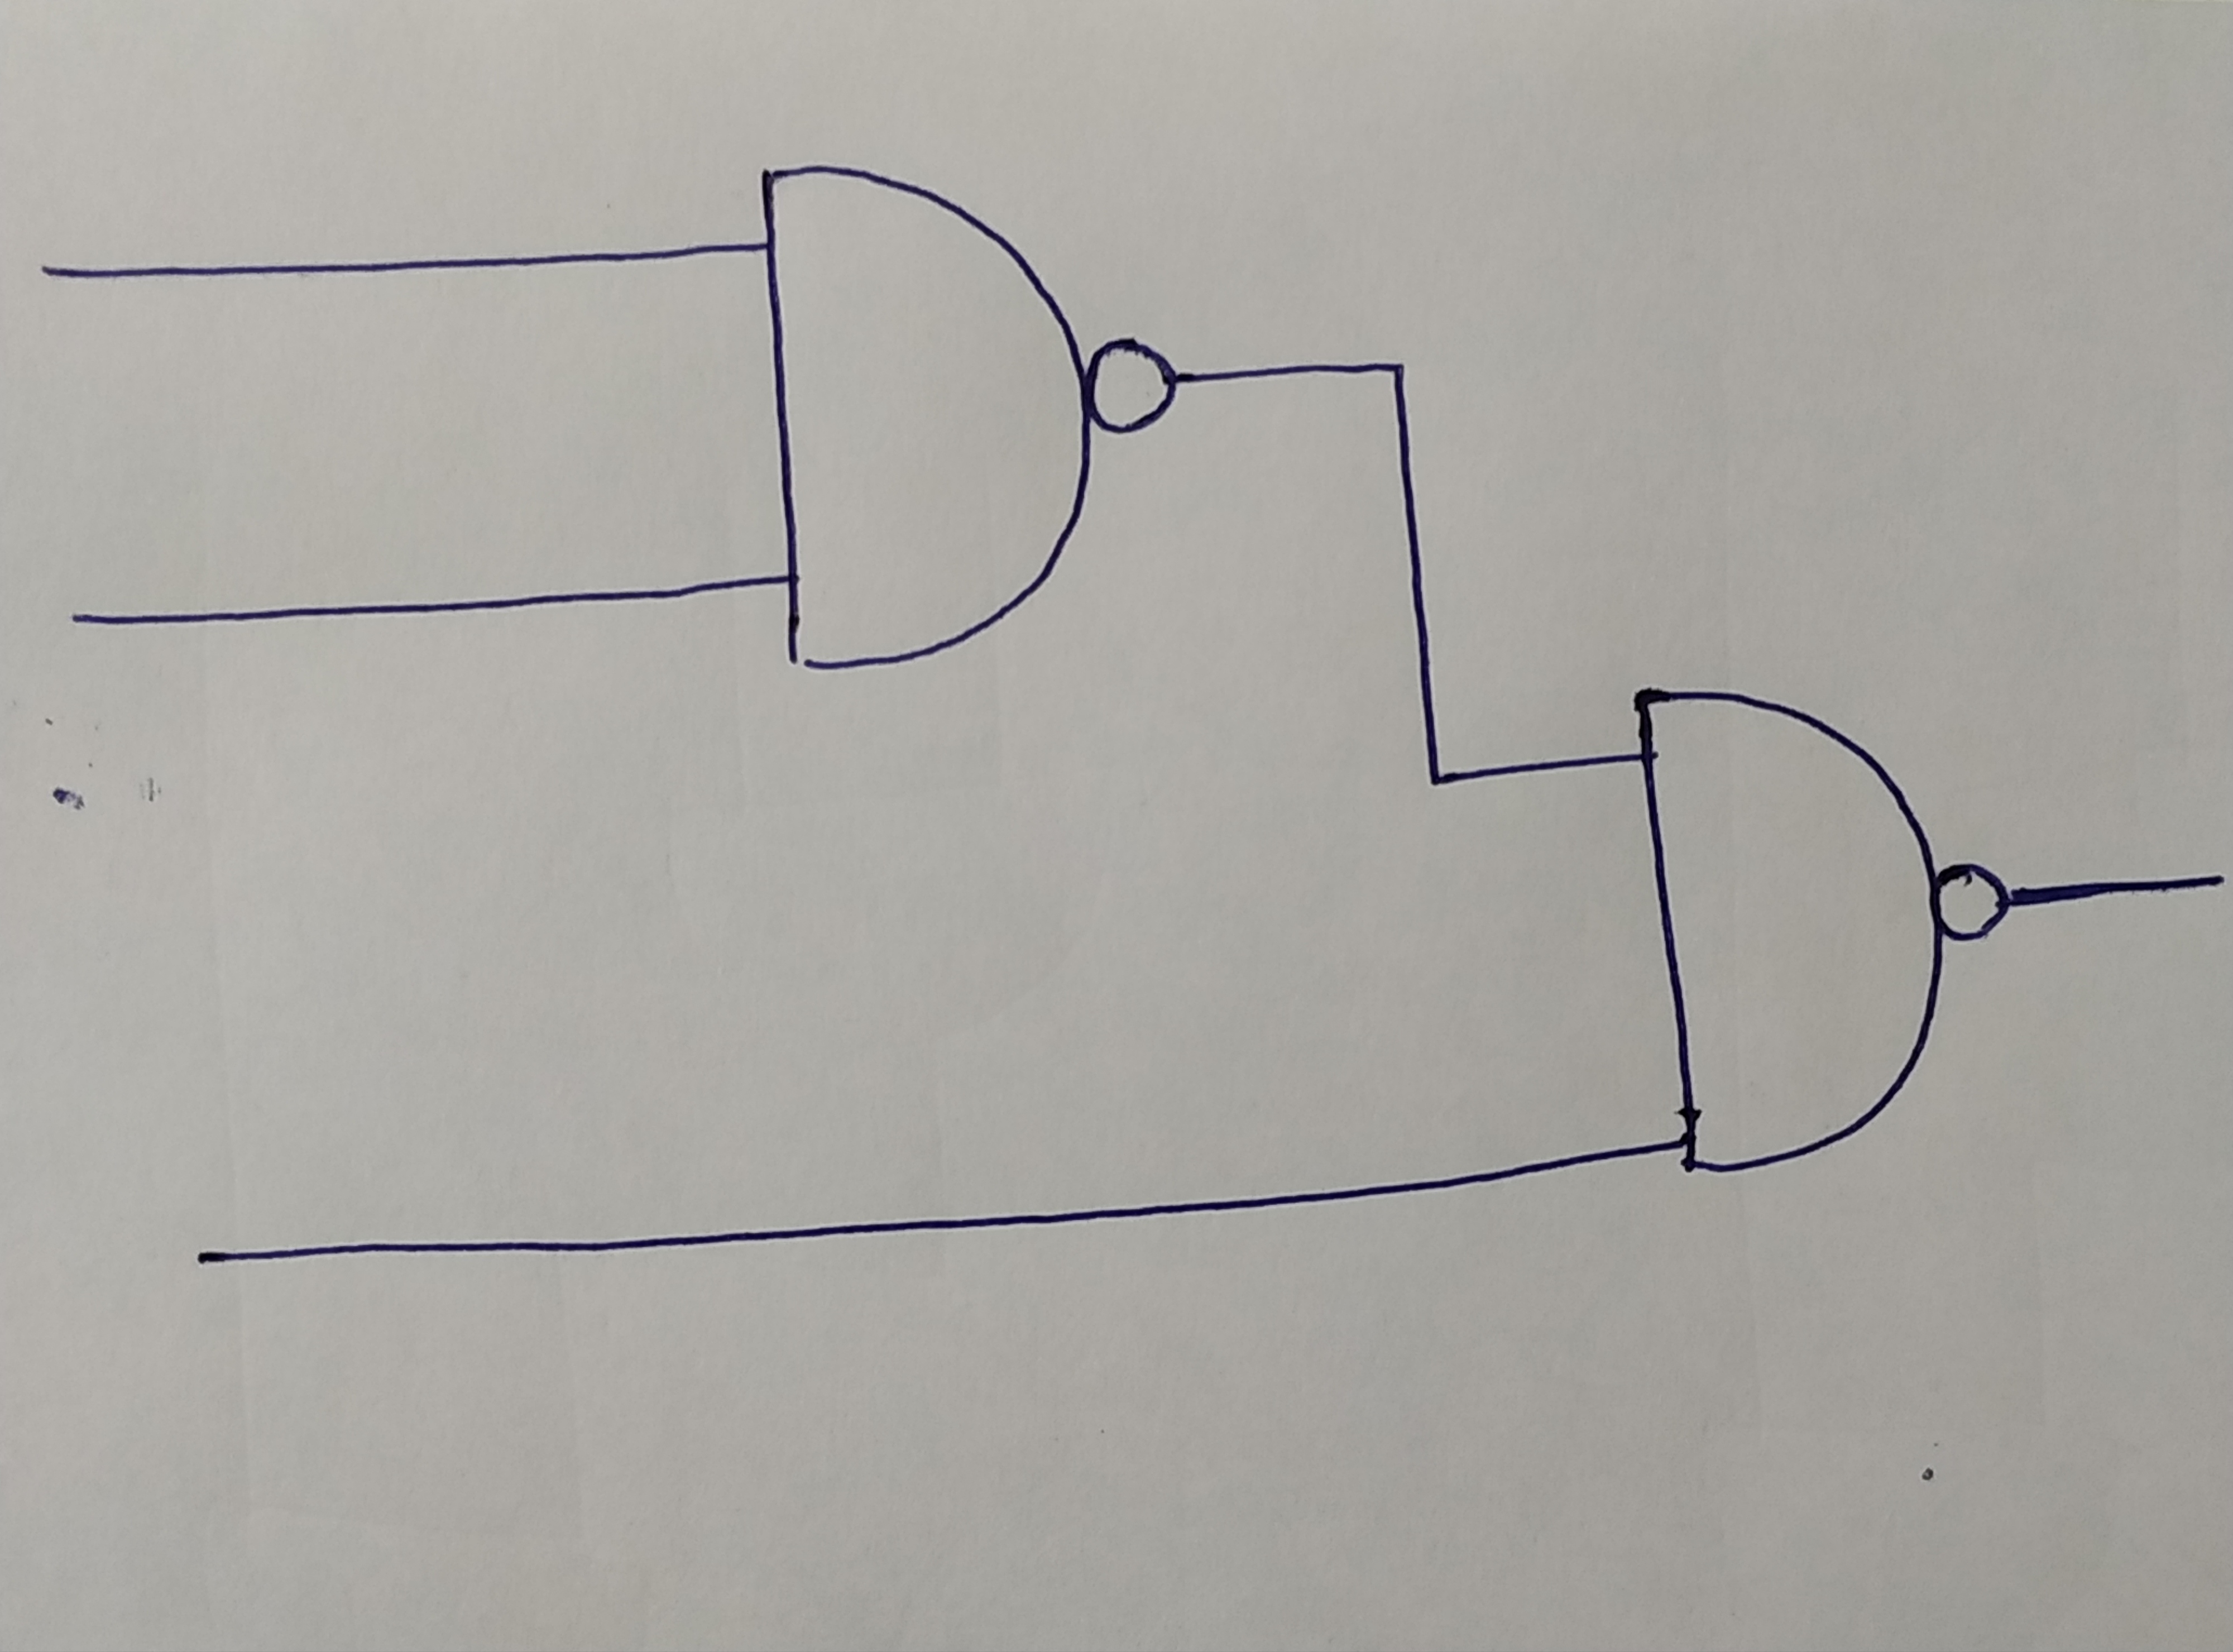and: (758, 160, 1090, 668), (1640, 685, 1936, 1164)
not: (1093, 342, 1171, 434), (1938, 864, 2007, 939)
